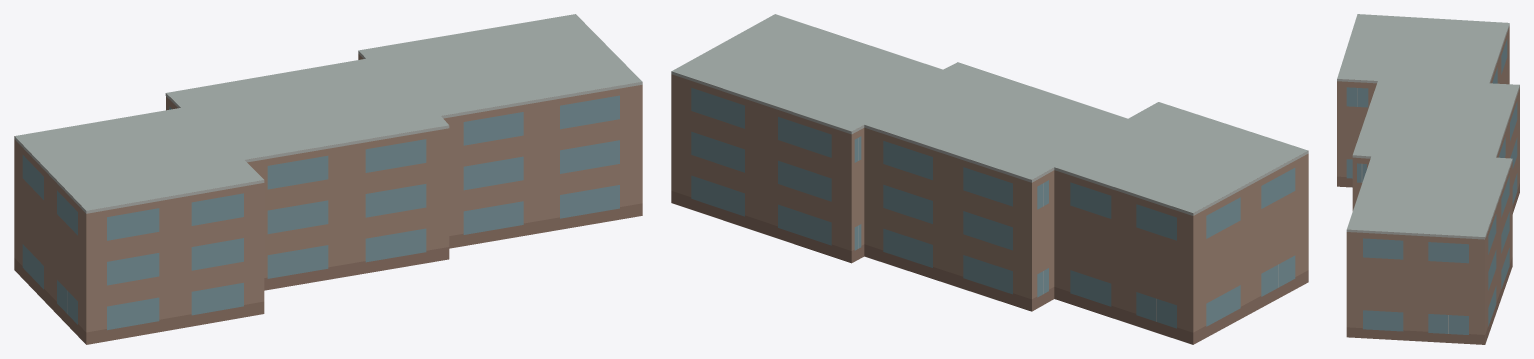
The model's file is survey-upis-32744626.glb.
The picture shows the model from 3 angles, left to right: view 1: azimuth 30°, elevation 25°; view 2: azimuth 150°, elevation 25°; view 3: azimuth 270°, elevation 25°; orthographic projection. The views are drawn at different scales.
Visible parts, largest first — view 1: survey-upis-32744626.tmp; view 2: survey-upis-32744626.tmp; view 3: survey-upis-32744626.tmp.
Boxes of the visible parts, x1,y1,x2,y2 form: survey-upis-32744626.tmp: (14, 14, 642, 344); survey-upis-32744626.tmp: (671, 14, 1308, 344); survey-upis-32744626.tmp: (1337, 14, 1519, 344).
Bounding box in the file's own units: 49.31 × 11.1 × 17.08.
